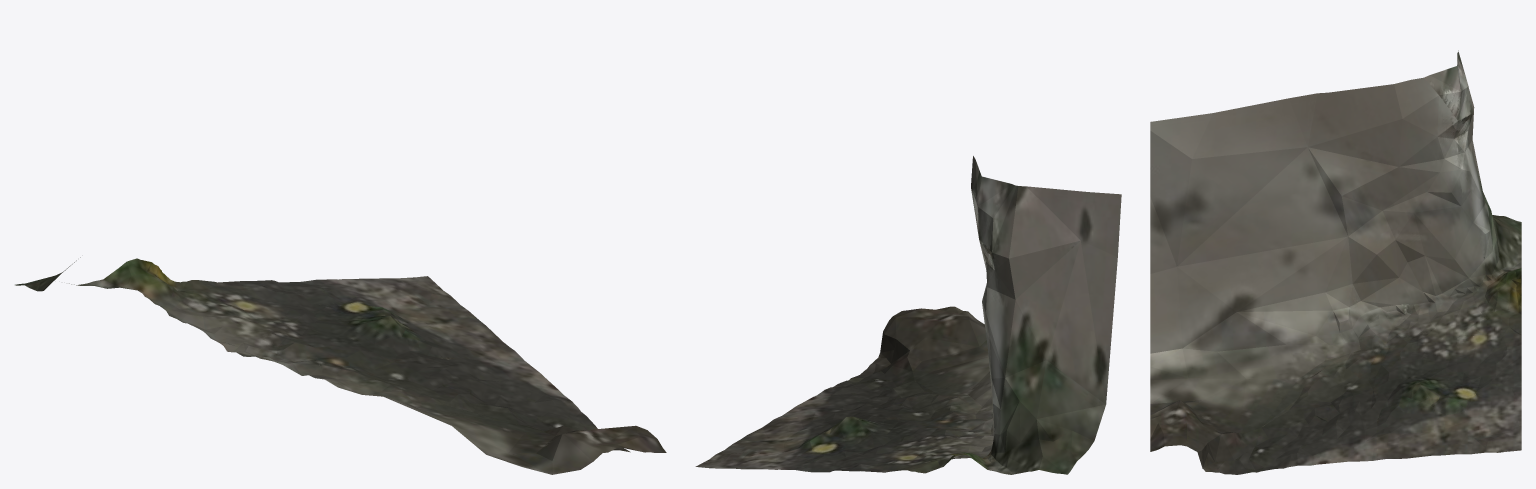
The picture shows the model from 3 angles, left to right: view 1: azimuth 30°, elevation 25°; view 2: azimuth 150°, elevation 25°; view 3: azimuth 270°, elevation 25°; orthographic projection. The views are drawn at different scales.
Bounding box in the file's own units: 0.8374 × 0.7572 × 0.8373.
4 materials, 4 textured.
